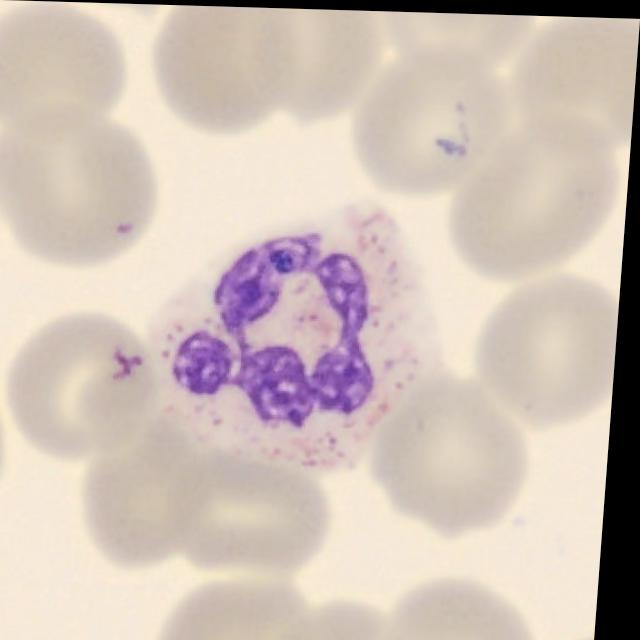Neutrofilo segmentado: (147, 200, 449, 474)
